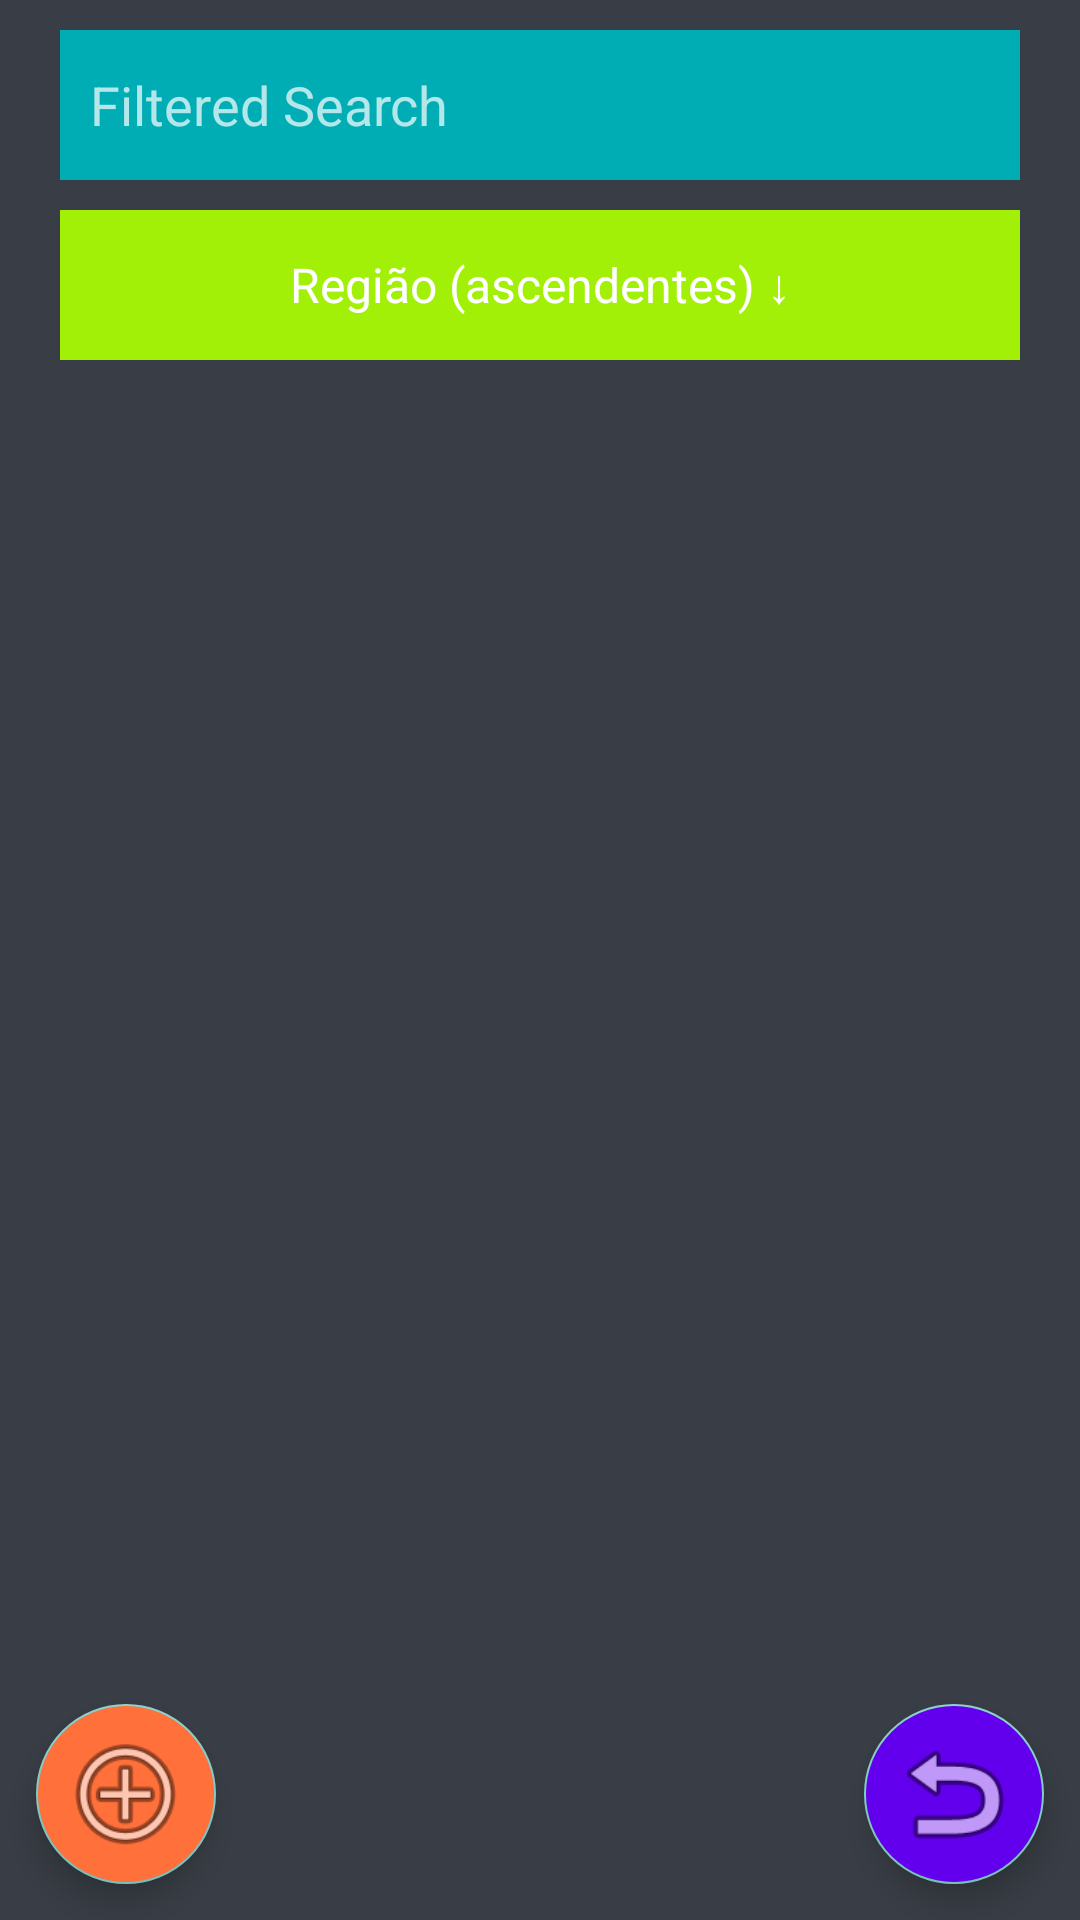

Icon click points for this 1080×1920 phone screenshot, format point (x, y):
Add Button: point (126, 1794)
